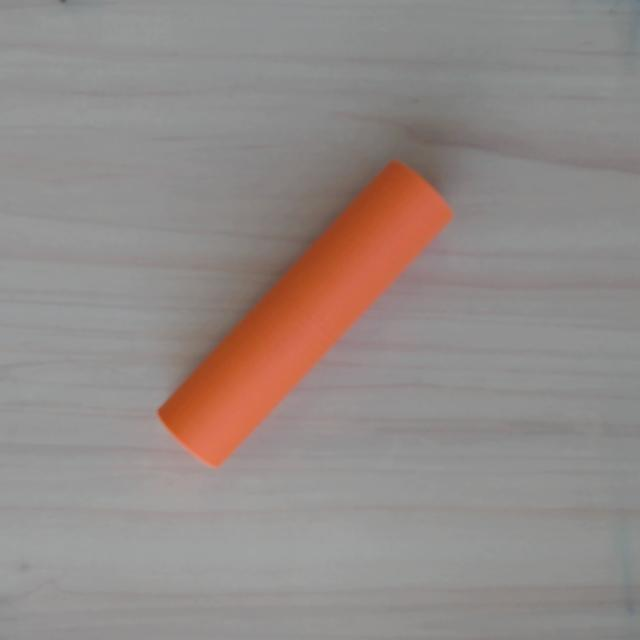Silinder-Jingga-10025: (151, 154, 459, 473)
